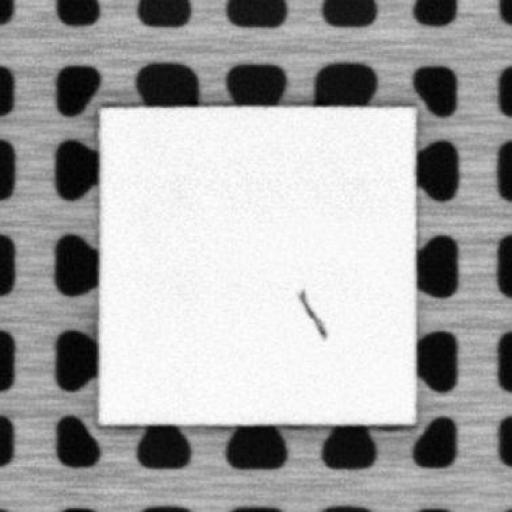DIE_INK: (295, 286, 328, 340)
